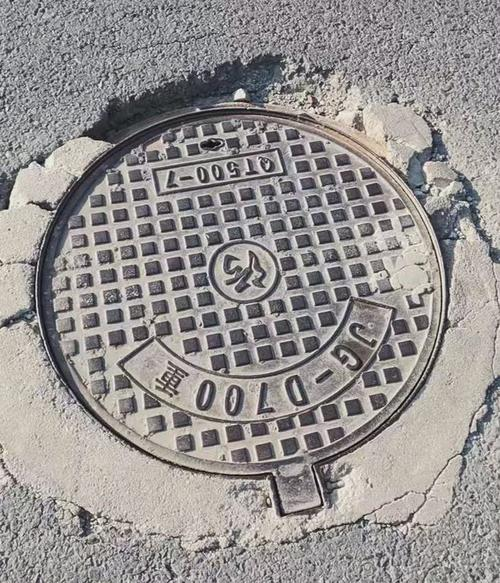circle: (14, 69, 483, 538)
